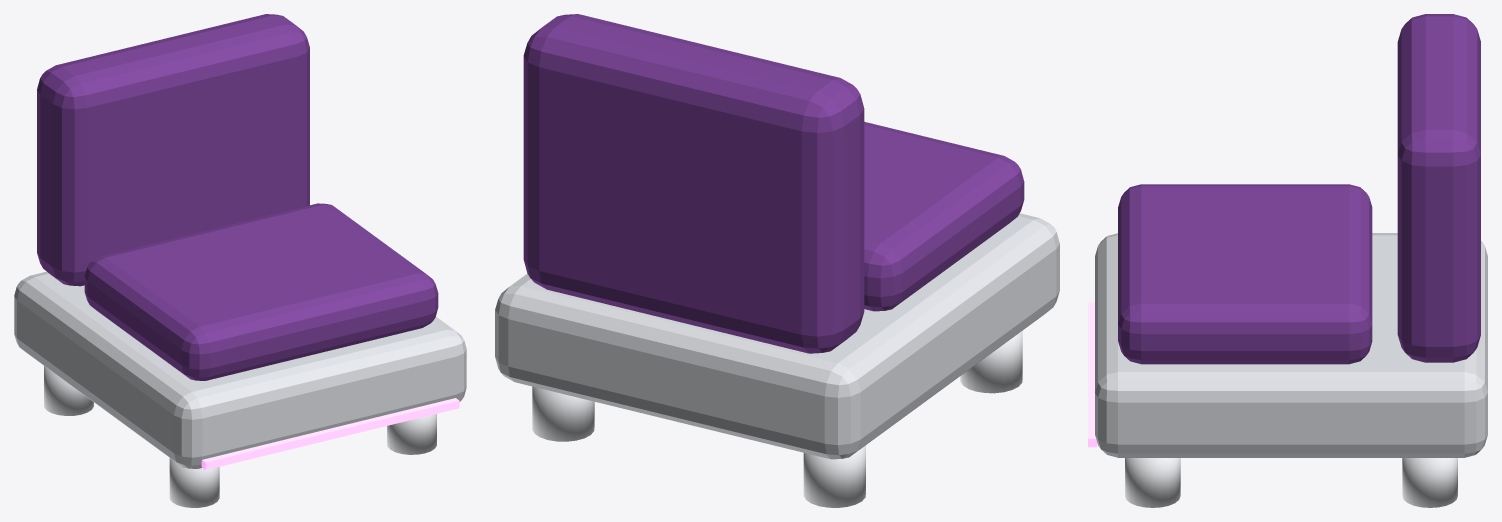
File: armchair_lounger.glb
3 views of the same model, side by side, from view 1: azimuth 30°, elevation 25°; view 2: azimuth 150°, elevation 25°; view 3: azimuth 270°, elevation 25° (orthographic). The views are drawn at different scales.
Parts seen in each view (by area): view 1: GD_armchair_lounger__m1, GD_armchair_lounger__m0, GD_armchair_lounger__m2, GD_armchair_lounger__m3; view 2: GD_armchair_lounger__m1, GD_armchair_lounger__m0, GD_armchair_lounger__m2; view 3: GD_armchair_lounger__m1, GD_armchair_lounger__m0, GD_armchair_lounger__m2, GD_armchair_lounger__m3.
Boxes of the visible parts, bbox=[...] form: GD_armchair_lounger__m1: bbox=[37, 14, 438, 380]; GD_armchair_lounger__m0: bbox=[14, 271, 466, 468]; GD_armchair_lounger__m2: bbox=[44, 366, 436, 507]; GD_armchair_lounger__m3: bbox=[201, 398, 459, 469]; GD_armchair_lounger__m1: bbox=[523, 14, 1024, 353]; GD_armchair_lounger__m0: bbox=[495, 213, 1059, 459]; GD_armchair_lounger__m2: bbox=[532, 331, 1022, 507]; GD_armchair_lounger__m1: bbox=[1118, 14, 1480, 364]; GD_armchair_lounger__m0: bbox=[1095, 233, 1487, 457]; GD_armchair_lounger__m2: bbox=[1125, 458, 1457, 507]; GD_armchair_lounger__m3: bbox=[1088, 302, 1097, 447].
Size of the model in its own units: 0.8 by 0.87 by 0.865.
